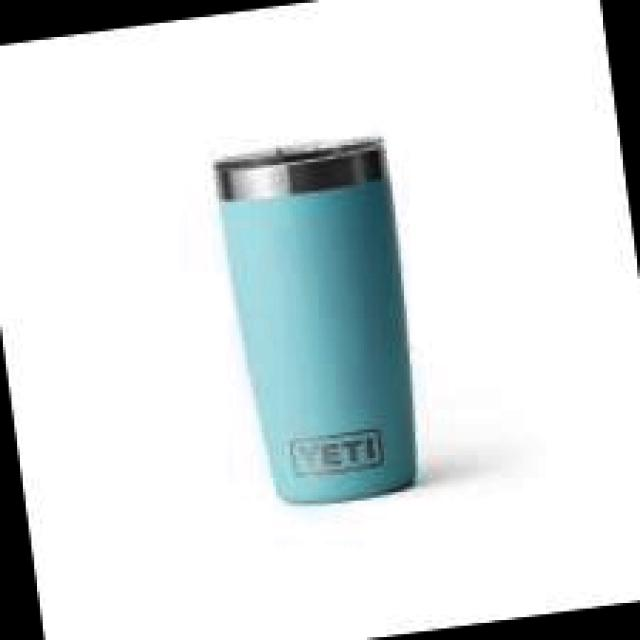bottle: (198, 111, 445, 515)
